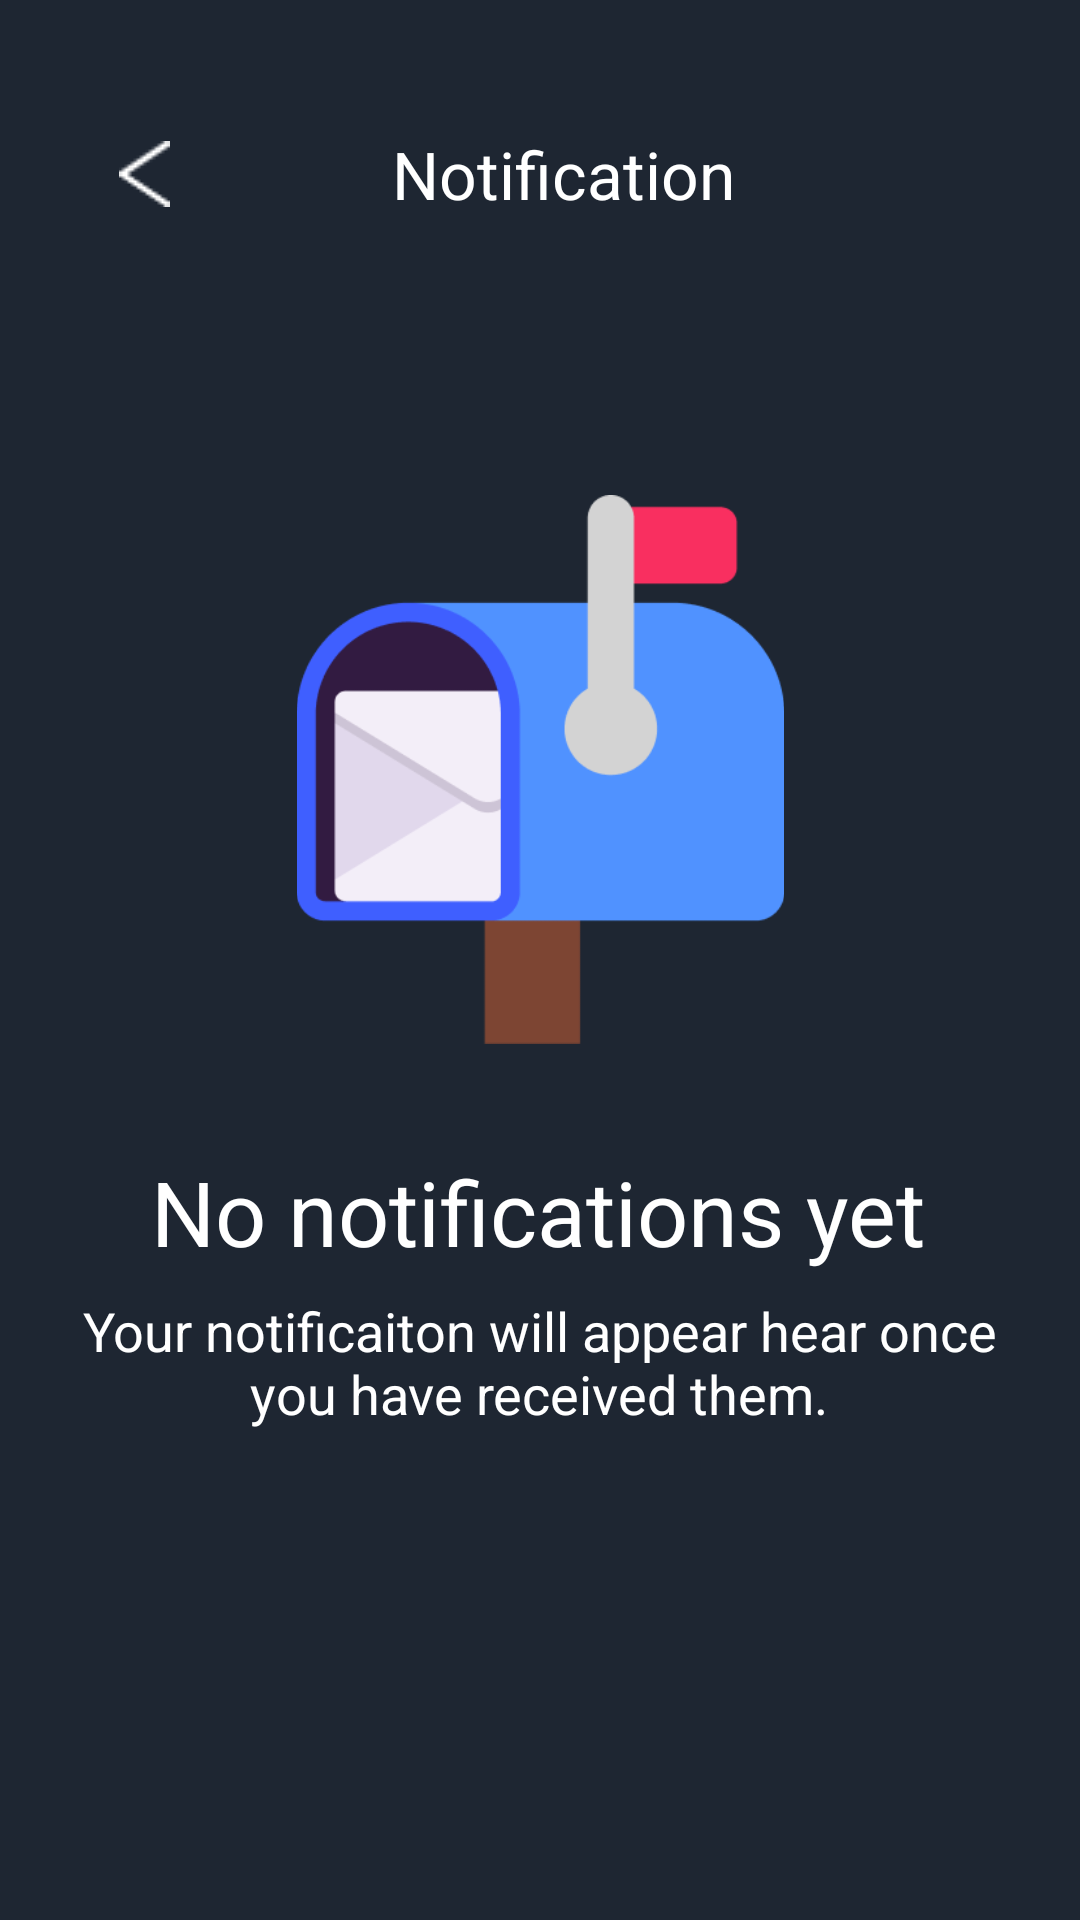

Icon click points for this 1080*1920 phone screenshot, format (x,y):
backbtn: (144,174)
